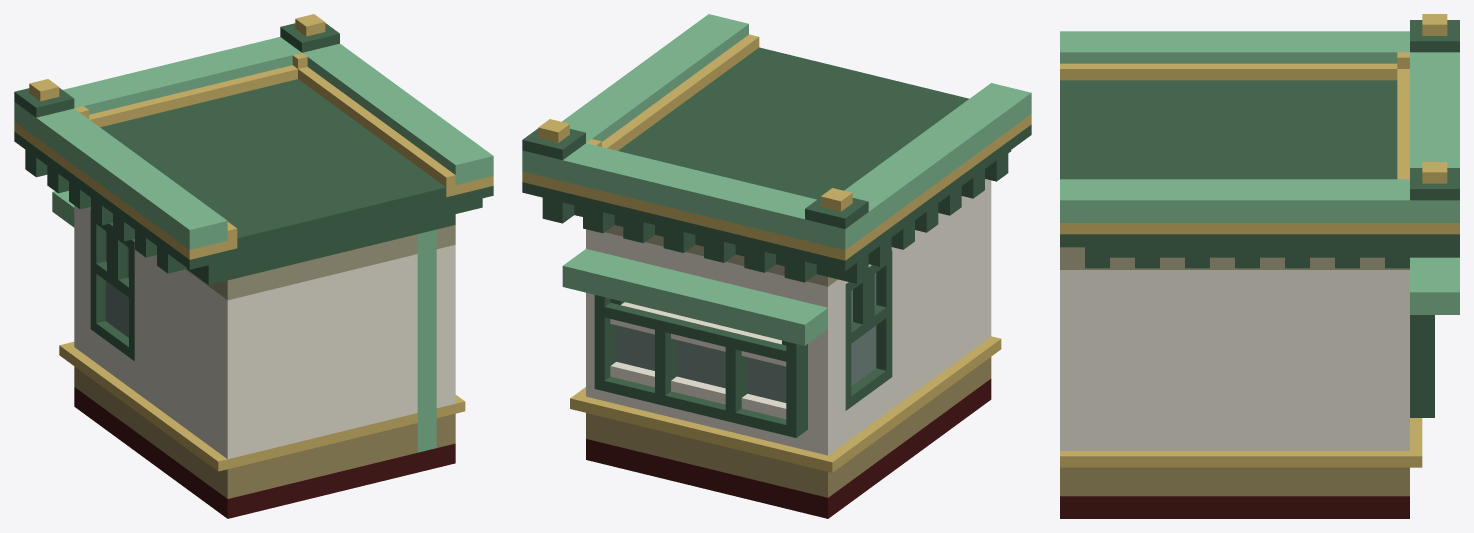
The model's file is tile_1_right_nb_90.obj.
3 views of the same model, side by side, from view 1: azimuth 30°, elevation 25°; view 2: azimuth 150°, elevation 25°; view 3: azimuth 270°, elevation 25° (orthographic). The views are drawn at different scales.
Bounding box in the file's own units: 3.2 × 3.2 × 3.2.
